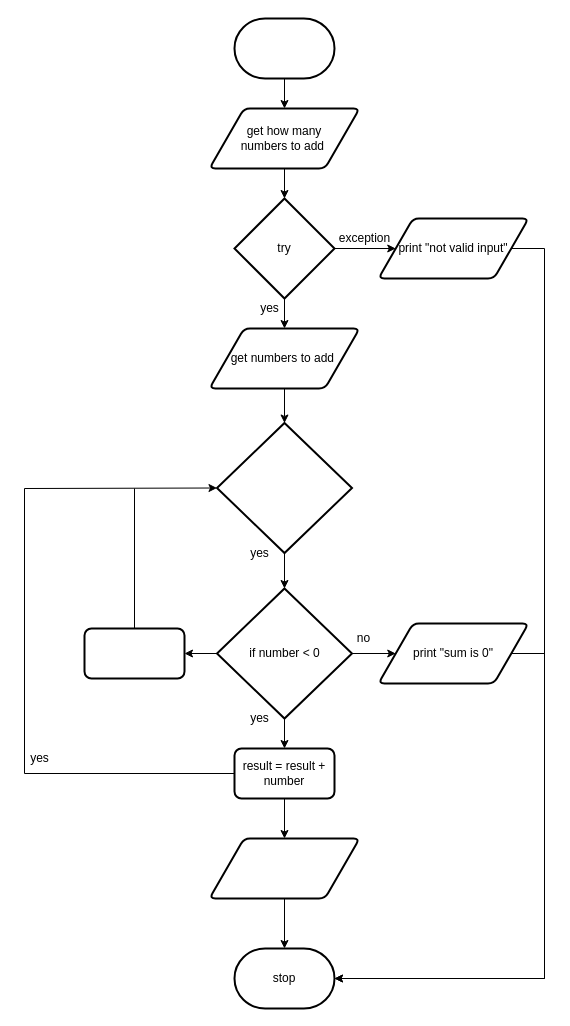
The diagram is 570 pixels wide and 1026 high, and some of its shapes have lost their labels. Here are the shapes that lost their labels. From the top down, the box of each, then its label:
(233, 17, 335, 79): start
(216, 422, 352, 554): for loop_counter in range(0, number_ to_add)
(83, 627, 185, 679): continue
(208, 837, 360, 899): print sum of positive integers
